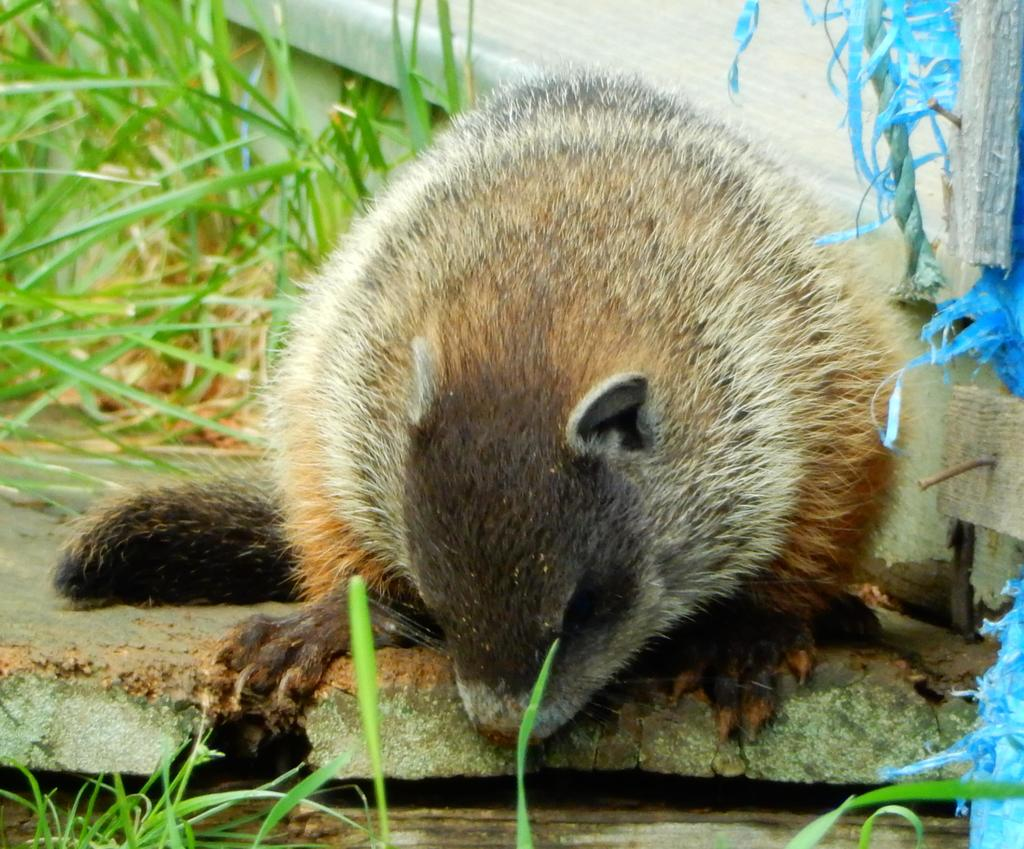Animal: (51, 58, 913, 747)
